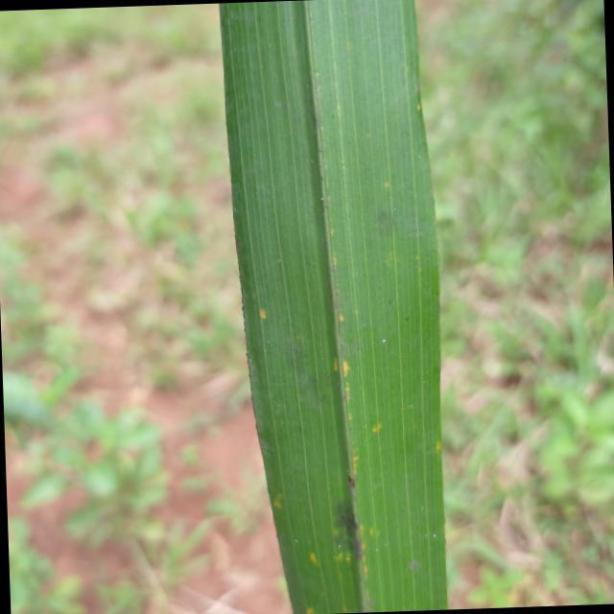Kalium: (221, 0, 446, 614)
